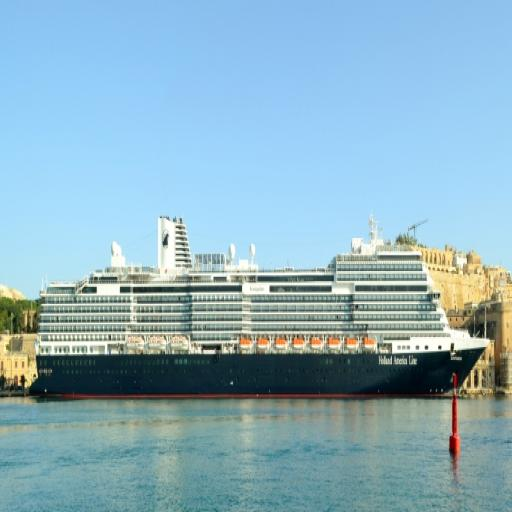cruises: (26, 212, 494, 411)
